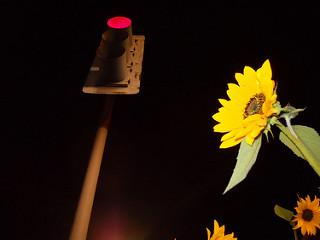sunflower: (213, 59, 279, 149)
